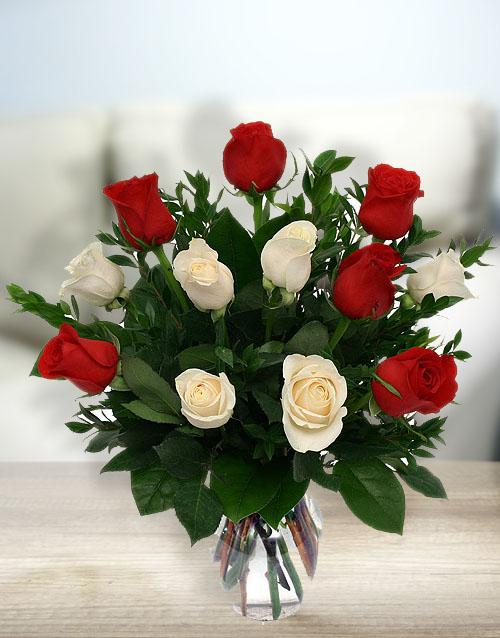Rose: (272, 337, 359, 463), (376, 340, 469, 437), (213, 110, 306, 200), (156, 352, 250, 441), (25, 320, 126, 400), (327, 236, 411, 331), (352, 150, 437, 243), (153, 233, 242, 321), (51, 239, 135, 320), (99, 168, 179, 253), (398, 249, 476, 319), (262, 215, 320, 304)
